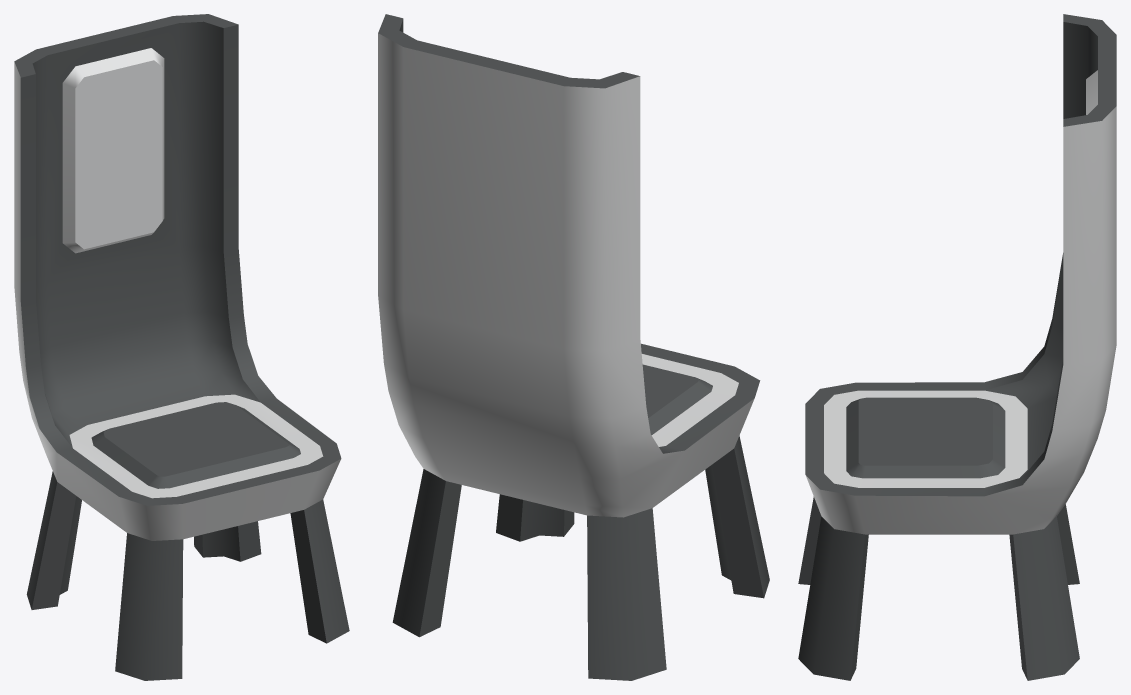
File: Chair_009.glb
3 views of the same model, side by side, from view 1: azimuth 30°, elevation 25°; view 2: azimuth 150°, elevation 25°; view 3: azimuth 270°, elevation 25° (orthographic). The views are drawn at different scales.
Visible parts, largest first — view 1: Chair_009; view 2: Chair_009; view 3: Chair_009.
Part boxes in pixels (x1,y1,x2,y2): Chair_009: [14, 14, 349, 680]; Chair_009: [378, 14, 769, 680]; Chair_009: [798, 14, 1116, 680].
Bounding box in the file's own units: 0.6431 × 1.39 × 0.727.
Materials: 2 (2 with a texture image).
